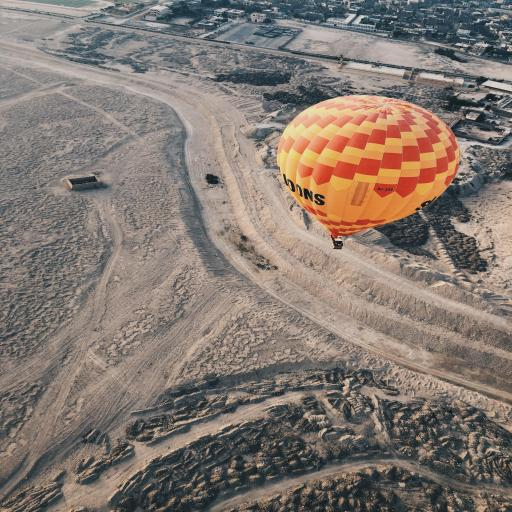hot air ballon: (277, 94, 462, 250)
